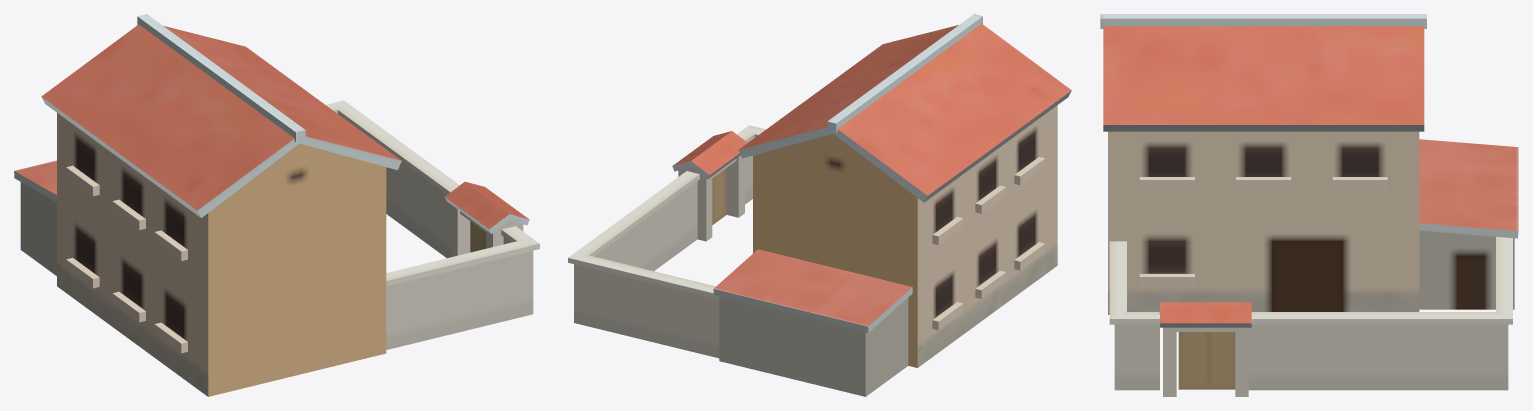
File: Plain_Building_Residential_L2_01_Mod.fbx
3 renders of one model, left to right at view 1: azimuth 30°, elevation 25°; view 2: azimuth 150°, elevation 25°; view 3: azimuth 270°, elevation 25°, orthographic. The views are drawn at different scales.
Visible parts, largest first — view 1: Plain_Building_Residential_L2_01_Mod; view 2: Plain_Building_Residential_L2_01_Mod; view 3: Plain_Building_Residential_L2_01_Mod.
Boxes of the visible parts, x1,y1,x2,y2 form: Plain_Building_Residential_L2_01_Mod: (14,14,539,396); Plain_Building_Residential_L2_01_Mod: (568,14,1071,396); Plain_Building_Residential_L2_01_Mod: (1100,14,1518,396).
Size of the model in its own units: 1188 by 777 by 1161.
